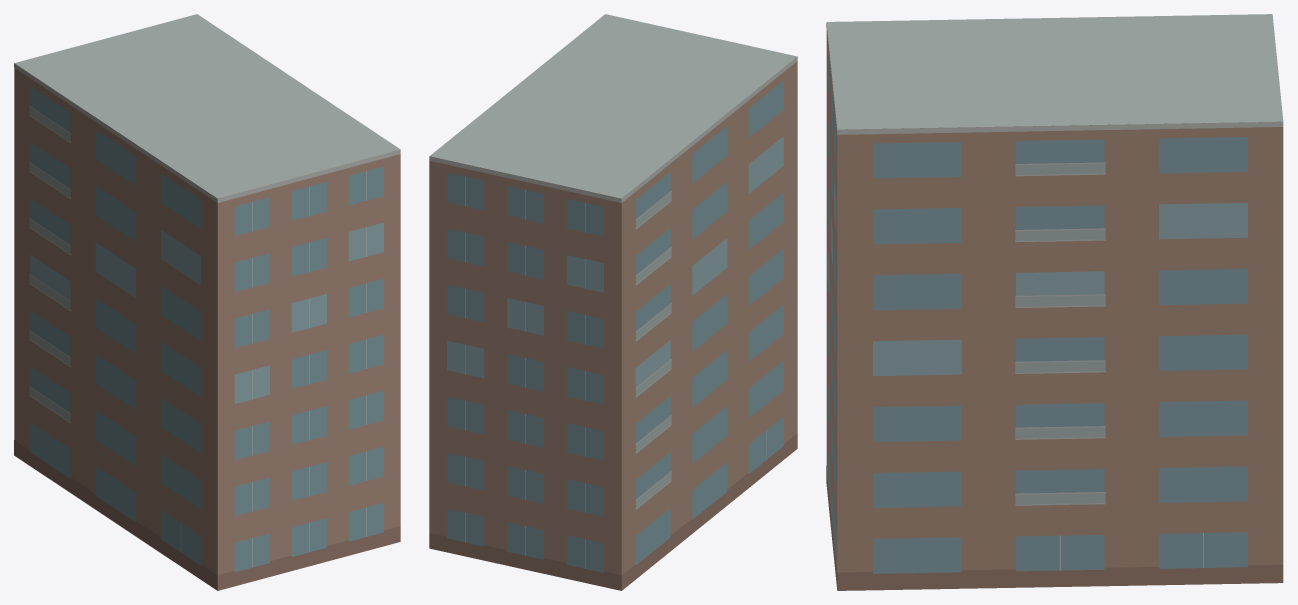
File: survey-upis-33041499.glb
3 renders of one model, left to right at view 1: azimuth 30°, elevation 25°; view 2: azimuth 150°, elevation 25°; view 3: azimuth 270°, elevation 25°, orthographic. The views are drawn at different scales.
Visible parts, largest first — view 1: survey-upis-33041499.tmp; view 2: survey-upis-33041499.tmp; view 3: survey-upis-33041499.tmp.
Part boxes in pixels (bbox=[...]): survey-upis-33041499.tmp: bbox=[14, 14, 400, 590]; survey-upis-33041499.tmp: bbox=[429, 14, 797, 590]; survey-upis-33041499.tmp: bbox=[826, 14, 1283, 590].
Bounding box in the file's own units: 11.48 × 21.35 × 19.17.
